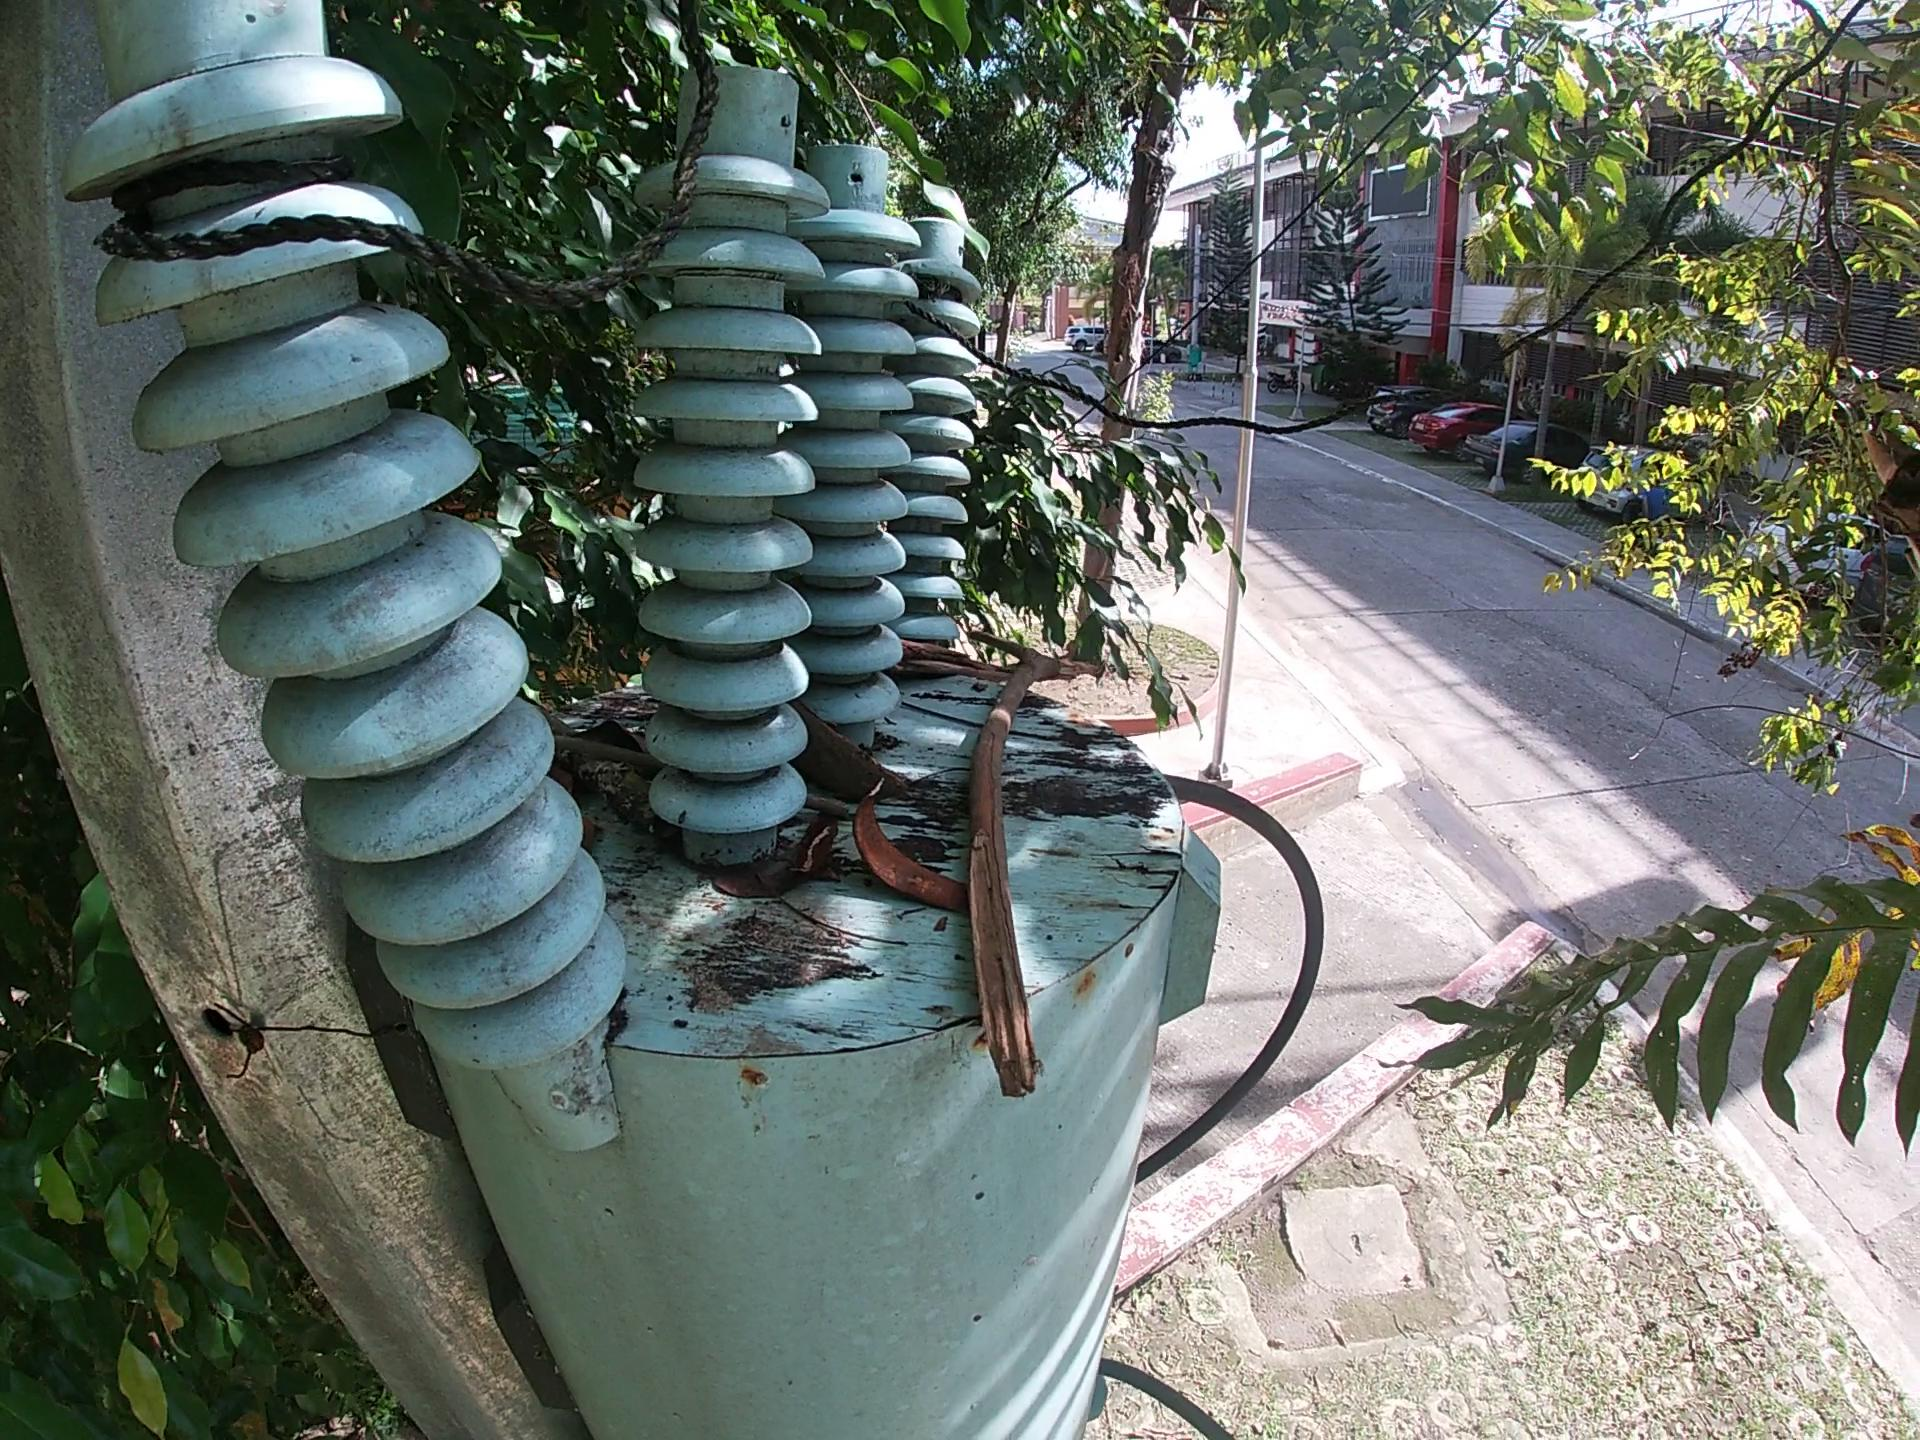leaf: (694, 867, 791, 903), (585, 711, 643, 762), (588, 814, 612, 843)
mahogany fruit: (844, 773, 963, 917), (797, 709, 915, 806)
tree branch: (958, 631, 1113, 1159), (534, 706, 668, 853), (777, 895, 912, 961), (897, 637, 1008, 682), (535, 737, 668, 773), (903, 693, 974, 723), (1019, 728, 1110, 750), (804, 799, 862, 817)
